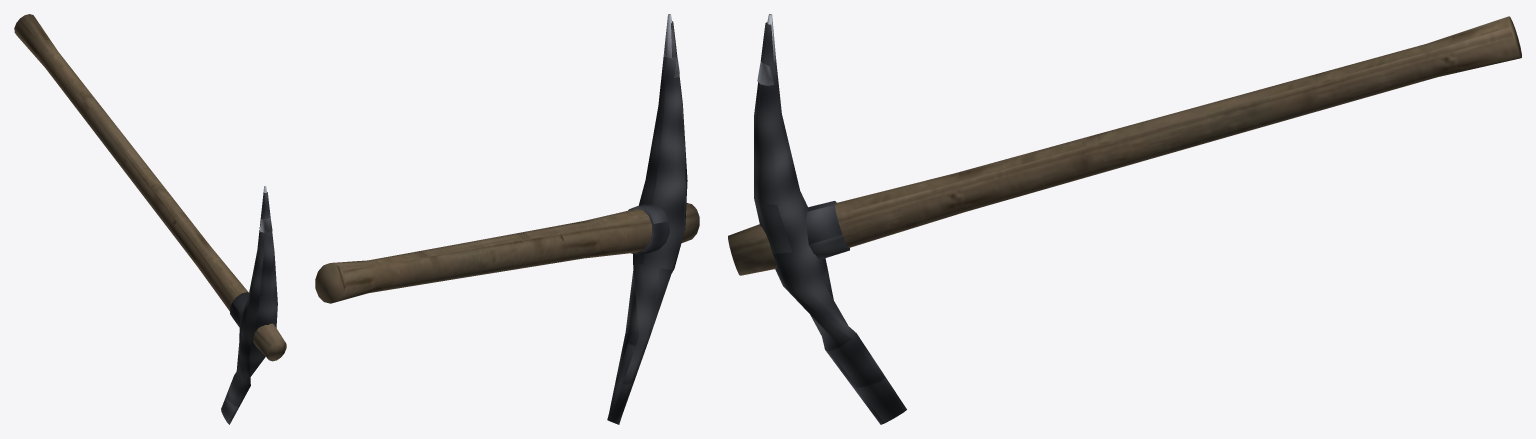
The model's file is pico.glb.
3 views of the same model, side by side, from view 1: azimuth 30°, elevation 25°; view 2: azimuth 150°, elevation 25°; view 3: azimuth 270°, elevation 25° (orthographic). The views are drawn at different scales.
Parts seen in each view (by area): view 1: pico; view 2: pico; view 3: pico.
Boxes of the visible parts, bbox=[...] form: pico: bbox=[14, 14, 286, 424]; pico: bbox=[315, 14, 699, 424]; pico: bbox=[728, 14, 1521, 424].
Size of the model in its own units: 0.07 by 0.5205 by 0.9128.
3 materials, 3 textured.
